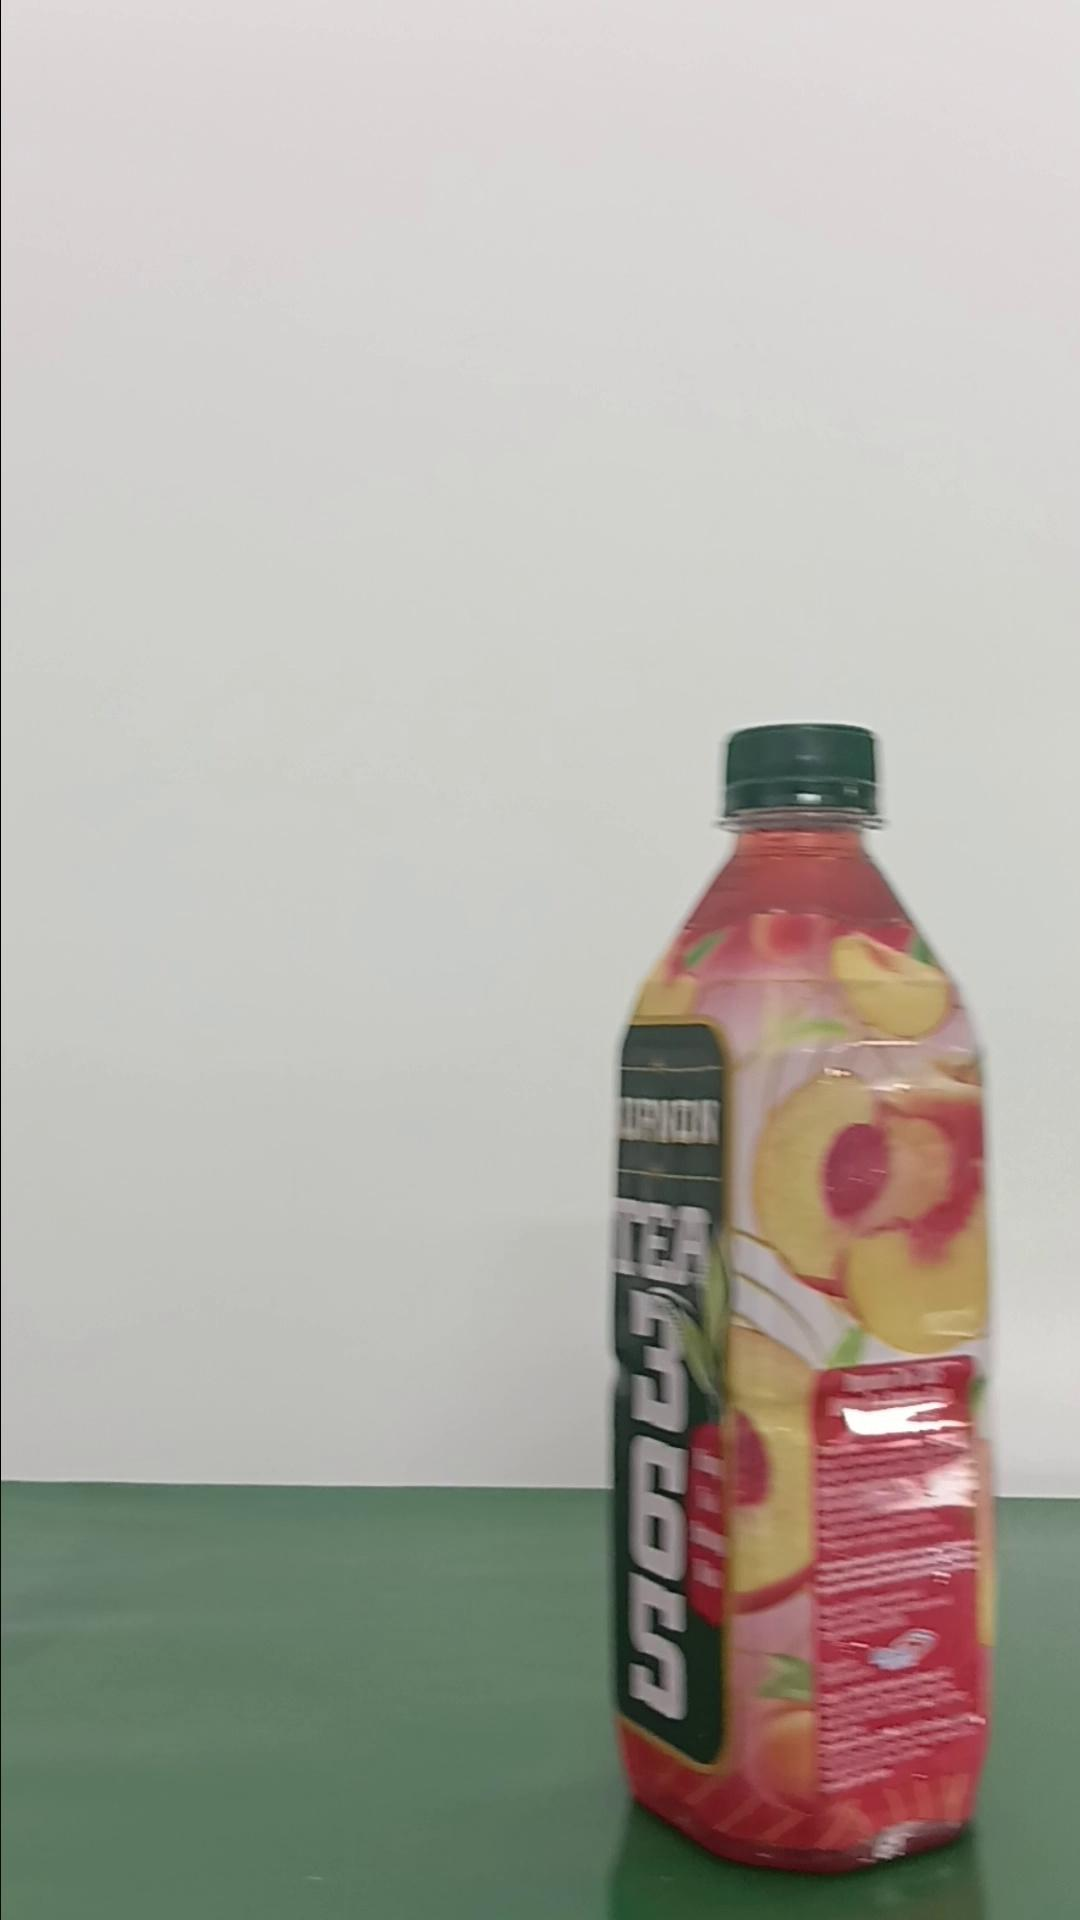khong loi: (604, 717, 1000, 1875)
